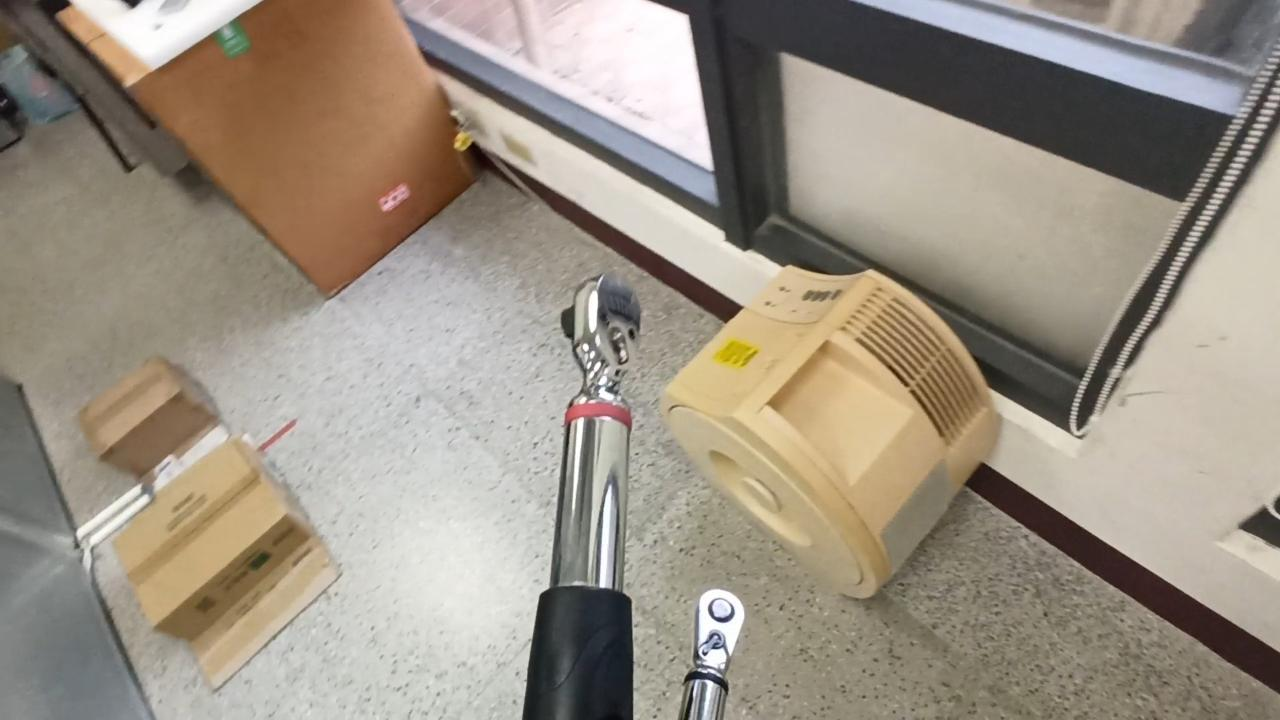Tool: (560, 277, 648, 405), (688, 588, 748, 680)
